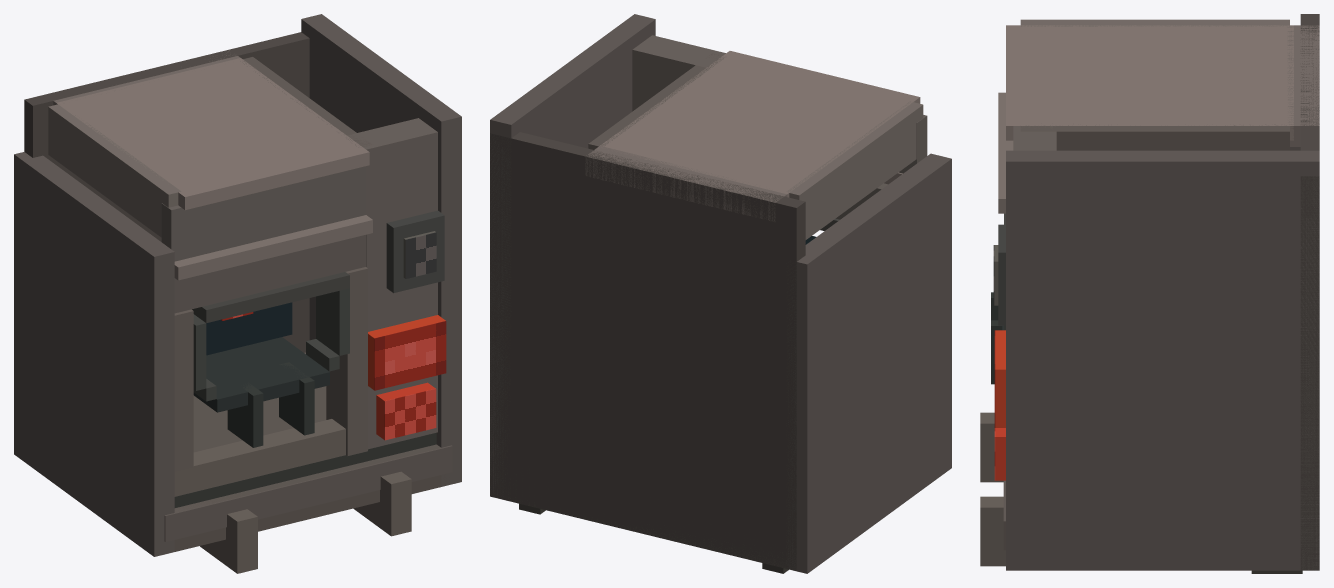
Rendered from CMU3DAutolatheCloud.glb.
3 views of the same model, side by side, from view 1: azimuth 30°, elevation 25°; view 2: azimuth 150°, elevation 25°; view 3: azimuth 270°, elevation 25° (orthographic). The views are drawn at different scales.
Visible parts, largest first — view 1: left chassis wall, top hopper front rim, right chassis wall, right control column, upper broad face, bottom front skirt, rear structural enclosure, hopper left return, bottom chassis rail, upper shoulder, main lower service panel, mouth floor shelf (+21 smaller); view 2: rear structural enclosure, left chassis wall, top hopper front rim, right chassis wall, hopper left return, hopper rear lip, right control column, hopper right return, bottom chassis rail, upper broad face; view 3: right chassis wall, top hopper front rim, rear structural enclosure, hopper right return, hopper rear lip, hopper left return, thick front support foot 2, thick front support foot 1, large orange red status panel, upper metal lower rim, right control column, upper control surround (+1 smaller).
Part boxes in pixels (left/top/right/bottom): left chassis wall: left=14, top=152, right=174, bottom=556; top hopper front rim: left=56, top=58, right=369, bottom=210; right chassis wall: left=301, top=14, right=461, bottom=486; right control column: left=347, top=118, right=437, bottom=449; upper broad face: left=161, top=166, right=366, bottom=261; bottom front skirt: left=164, top=445, right=452, bottom=541; rear structural enclosure: left=24, top=32, right=309, bottom=352; hopper left return: left=48, top=104, right=181, bottom=237; bottom chassis rail: left=174, top=352, right=449, bottom=551; upper shoulder: left=174, top=235, right=365, bottom=313; main lower service panel: left=174, top=419, right=345, bottom=496; mouth floor shelf: left=193, top=337, right=329, bottom=412; rear structural enclosure: left=490, top=132, right=805, bottom=570; left chassis wall: left=786, top=153, right=951, bottom=573; top hopper front rim: left=598, top=51, right=920, bottom=197; right chassis wall: left=490, top=14, right=655, bottom=498; hopper left return: left=786, top=101, right=923, bottom=239; hopper rear lip: left=585, top=146, right=787, bottom=221; right control column: left=632, top=35, right=725, bottom=111; hopper right return: left=588, top=53, right=724, bottom=149; bottom chassis rail: left=503, top=474, right=796, bottom=570; upper broad face: left=899, top=115, right=927, bottom=173; right chassis wall: left=1006, top=150, right=1319, bottom=570; top hopper front rim: left=1006, top=25, right=1293, bottom=140; rear structural enclosure: left=1300, top=14, right=1319, bottom=570; hopper right return: left=1020, top=124, right=1289, bottom=150; hopper rear lip: left=1287, top=25, right=1319, bottom=146; hopper left return: left=1020, top=19, right=1289, bottom=26; thick front support foot 2: left=980, top=496, right=1005, bottom=566; thick front support foot 1: left=980, top=412, right=1003, bottom=482; large orange red status panel: left=995, top=330, right=1005, bottom=427; upper metal lower rim: left=998, top=92, right=1013, bottom=213; right control column: left=1013, top=126, right=1056, bottom=150; upper control surround: left=998, top=224, right=1005, bottom=325.
Size of the model in its own units: 0.9375 by 1.14 by 0.8.
31 materials, 4 textured.
